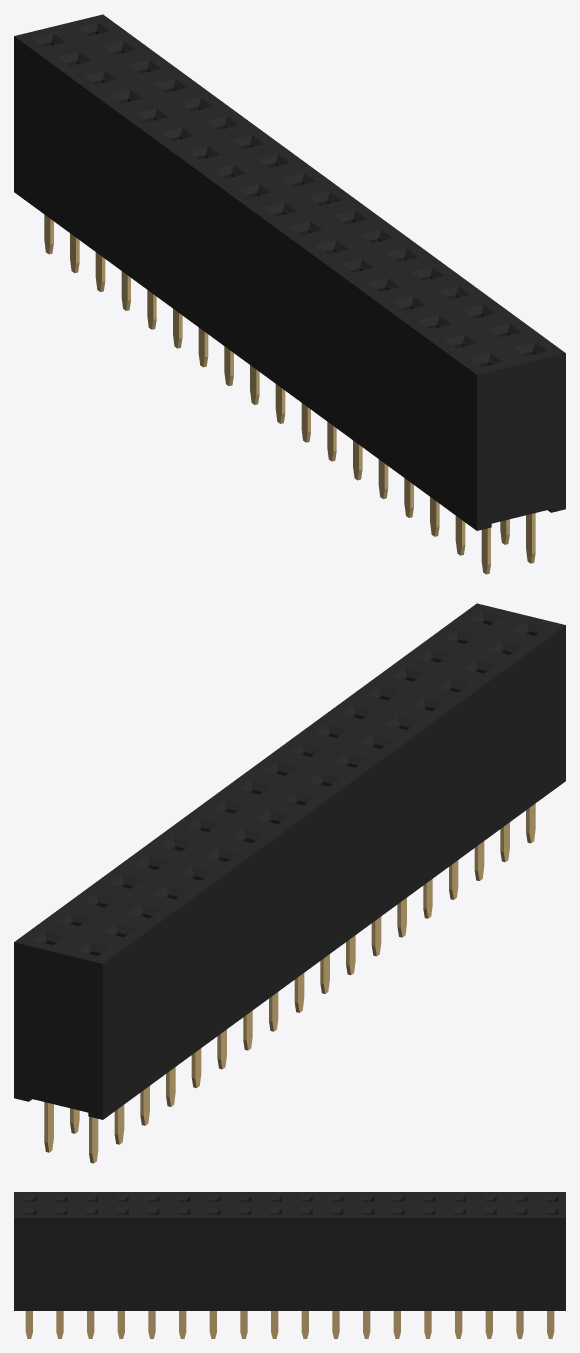
The model's file is kc-pinsocket_2x18_p2.54mm_vertical.glb.
3 renders of one model, top to bottom at view 1: azimuth 30°, elevation 25°; view 2: azimuth 150°, elevation 25°; view 3: azimuth 270°, elevation 25°, orthographic. The views are drawn at different scales.
Visible parts, largest first — view 1: 0_0_0_0, 0.75_0.5_0.25_0.9; view 2: 0_0_0_0, 0.75_0.5_0.25_0.9; view 3: 0_0_0_0, 0.75_0.5_0.25_0.9.
Boxes of the visible parts, left/top/right/bottom form: 0_0_0_0: left=14, top=14, right=565, bottom=530; 0.75_0.5_0.25_0.9: left=44, top=214, right=535, bottom=574; 0_0_0_0: left=14, top=603, right=565, bottom=1119; 0.75_0.5_0.25_0.9: left=44, top=803, right=535, bottom=1163; 0_0_0_0: left=14, top=1192, right=565, bottom=1310; 0.75_0.5_0.25_0.9: left=25, top=1311, right=554, bottom=1338.
Bounding box in the file's own units: 0.5079 × 1.16 × 4.57.
